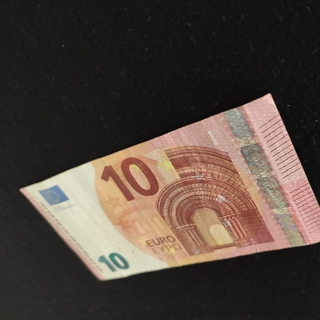10EUROFront: (19, 93, 320, 282)
